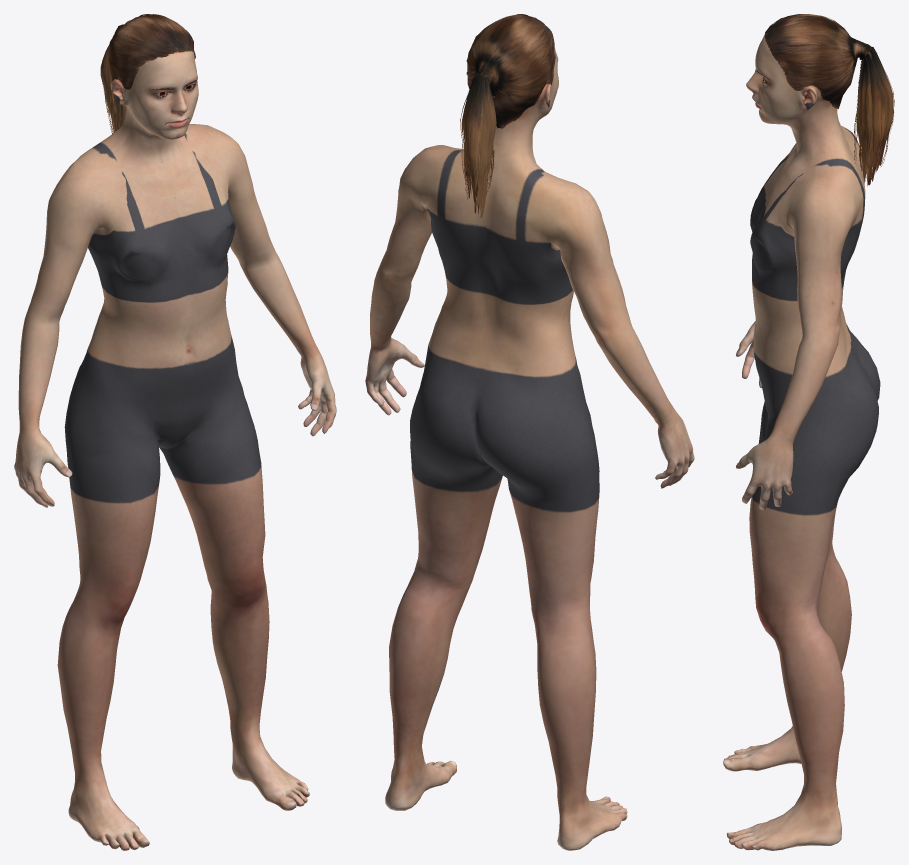
Rendered from female.glb.
3 renders of one model, left to right at view 1: azimuth 30°, elevation 25°; view 2: azimuth 150°, elevation 25°; view 3: azimuth 270°, elevation 25°, orthographic. The views are drawn at different scales.
Parts seen in each view (by area): view 1: Body, Hair; view 2: Body, Hair; view 3: Body, Hair.
Part boxes in pixels (box(x1,y1,x2,y2)): Body: box(14, 51, 336, 850); Hair: box(100, 14, 195, 133); Body: box(365, 47, 694, 850); Hair: box(460, 14, 555, 217); Body: box(723, 35, 880, 850); Hair: box(764, 14, 894, 186).
Bounding box in the file's own units: 0.6598 × 1.61 × 0.3207.
Materials: 5 (5 with a texture image).
